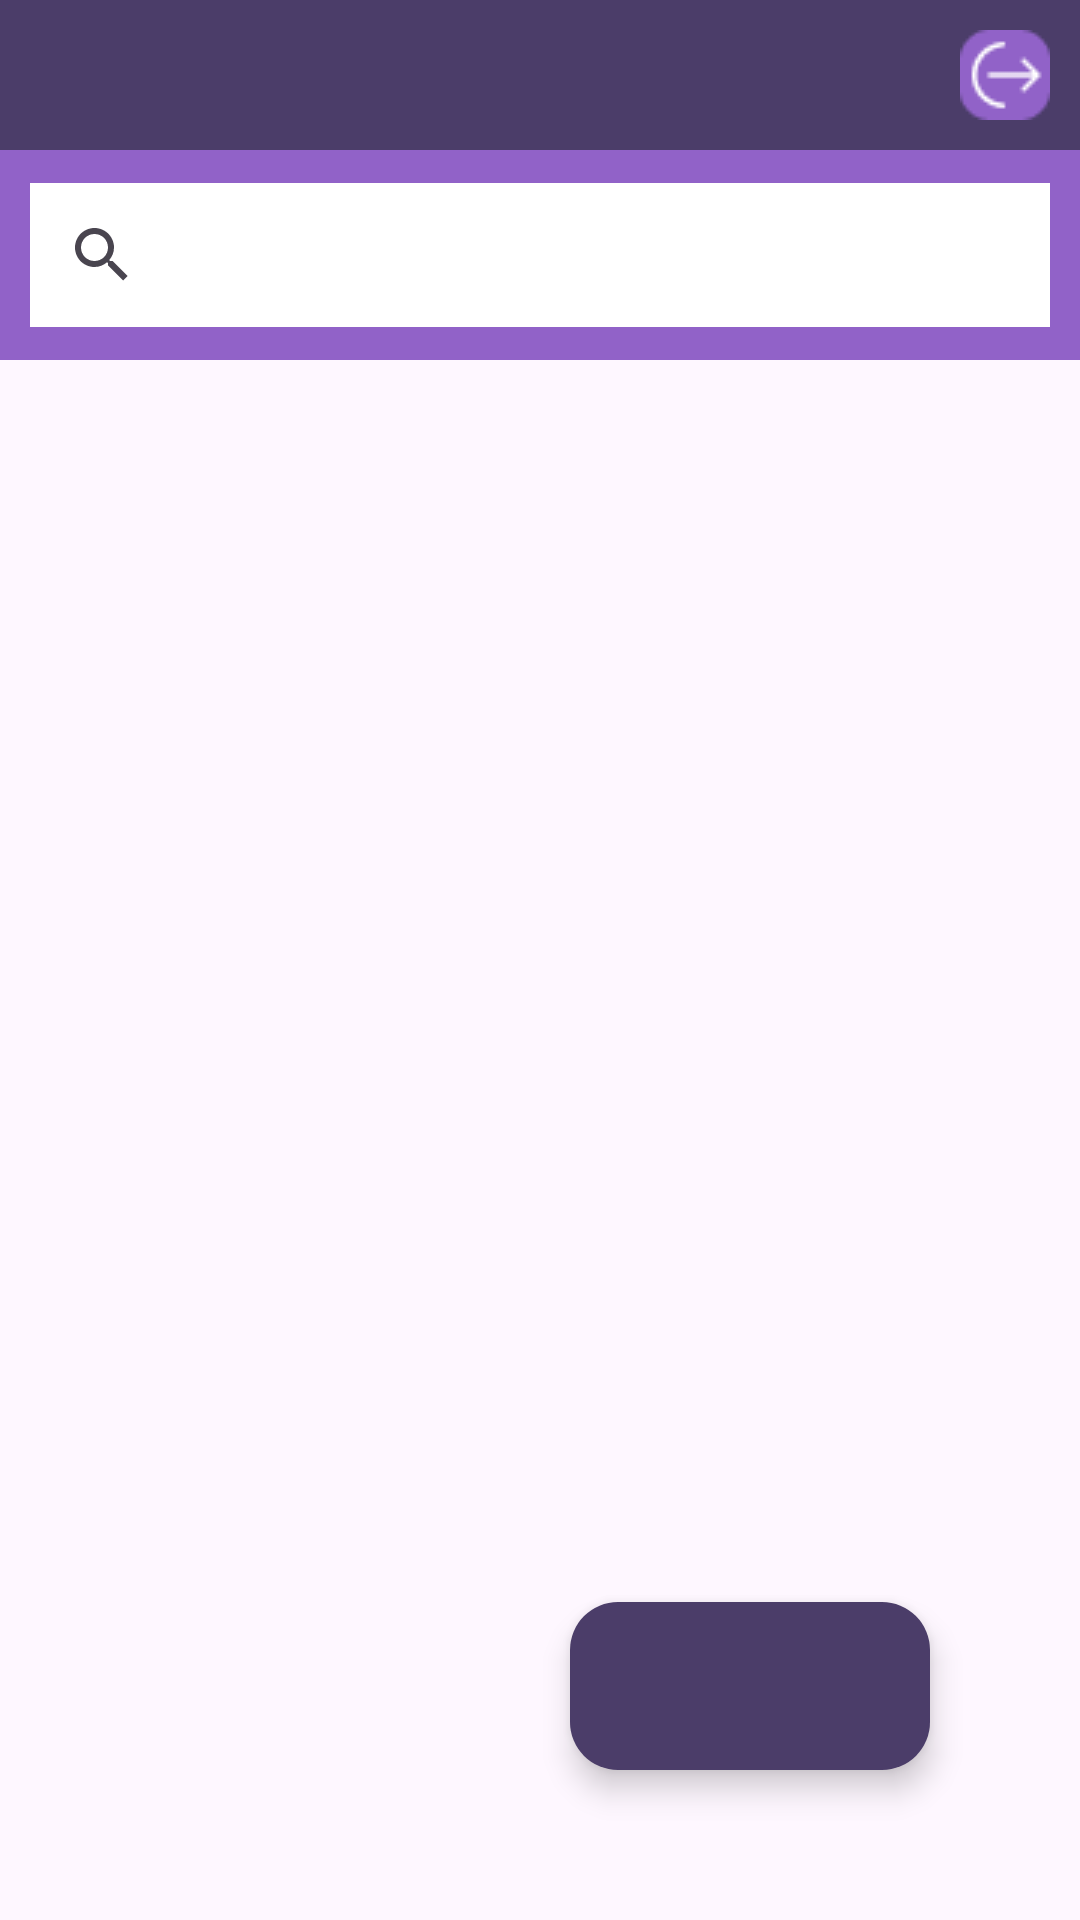

Named icons in this screenshot (1080w x 1920h) and their centers, (x,y):
exit: (1005,75)
